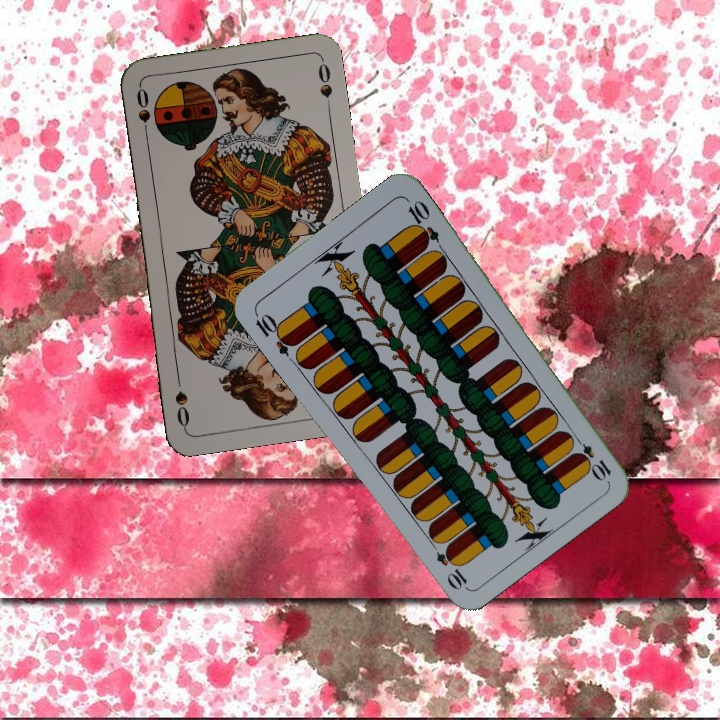E10: (250, 308, 299, 358), (568, 431, 614, 483)
SO: (132, 84, 153, 143)
